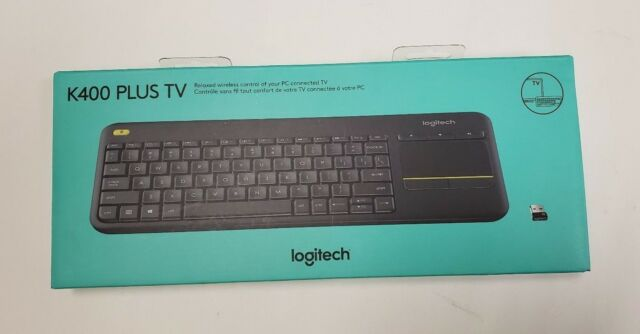logitech-keyboard-k400: (91, 110, 505, 228)
